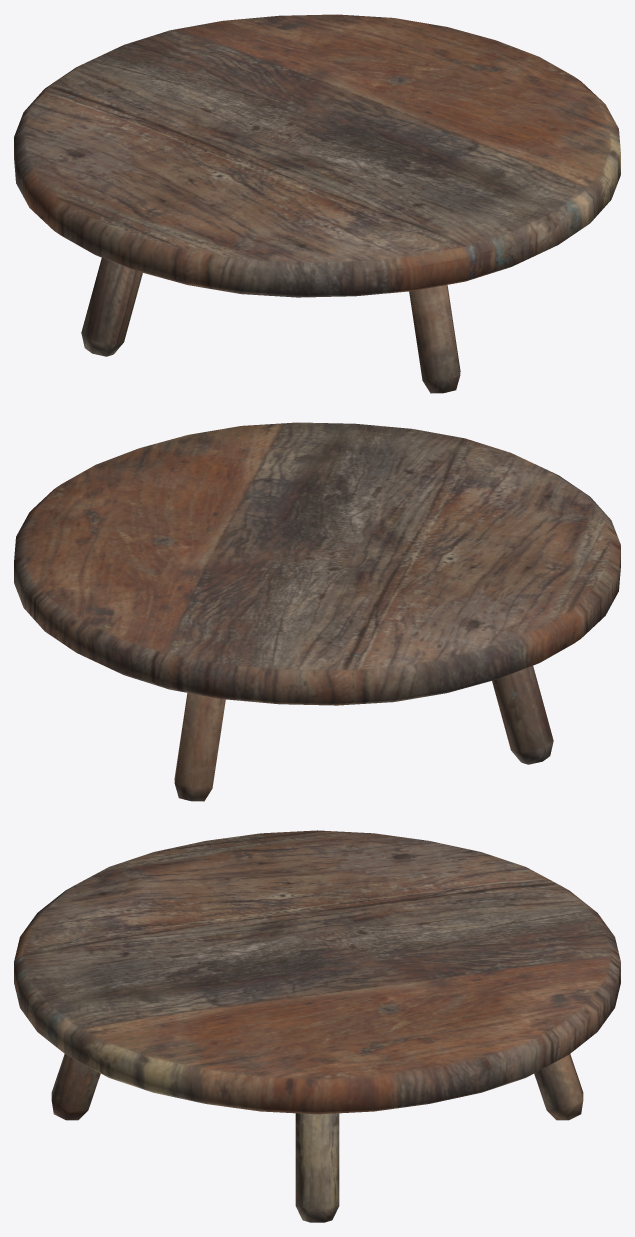
File: Table.fbx
The picture shows the model from 3 angles, top to bottom: view 1: azimuth 30°, elevation 25°; view 2: azimuth 150°, elevation 25°; view 3: azimuth 270°, elevation 25°; orthographic projection.
Parts seen in each view (by area): view 1: Table; view 2: Table; view 3: Table.
Part boxes in pixels (x1,y1,x2,y2): Table: (14,14,620,393); Table: (14,422,620,801); Table: (14,830,620,1222).
Size of the model in its own units: 0.3468 by 0.3468 by 0.1045.
Materials: 1 (1 with a texture image).
